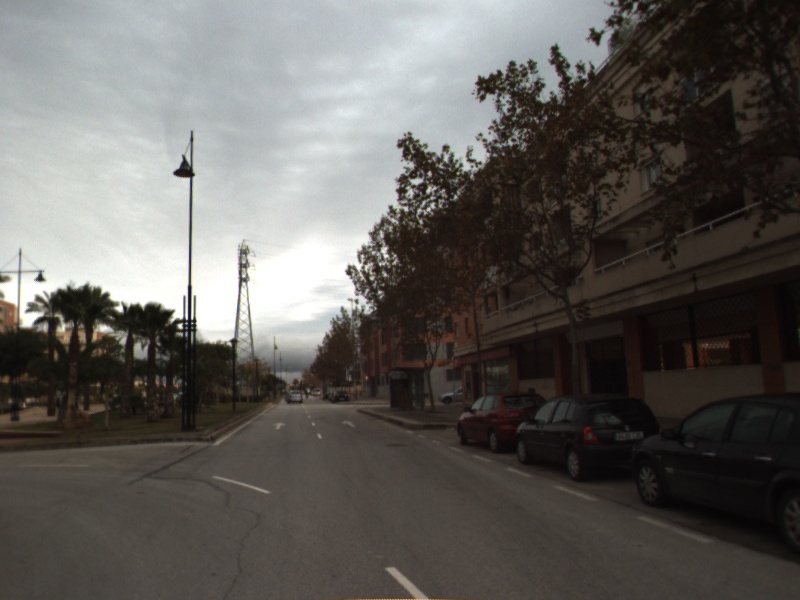STRAIGHT: (340, 418, 359, 429), (271, 421, 288, 431)
